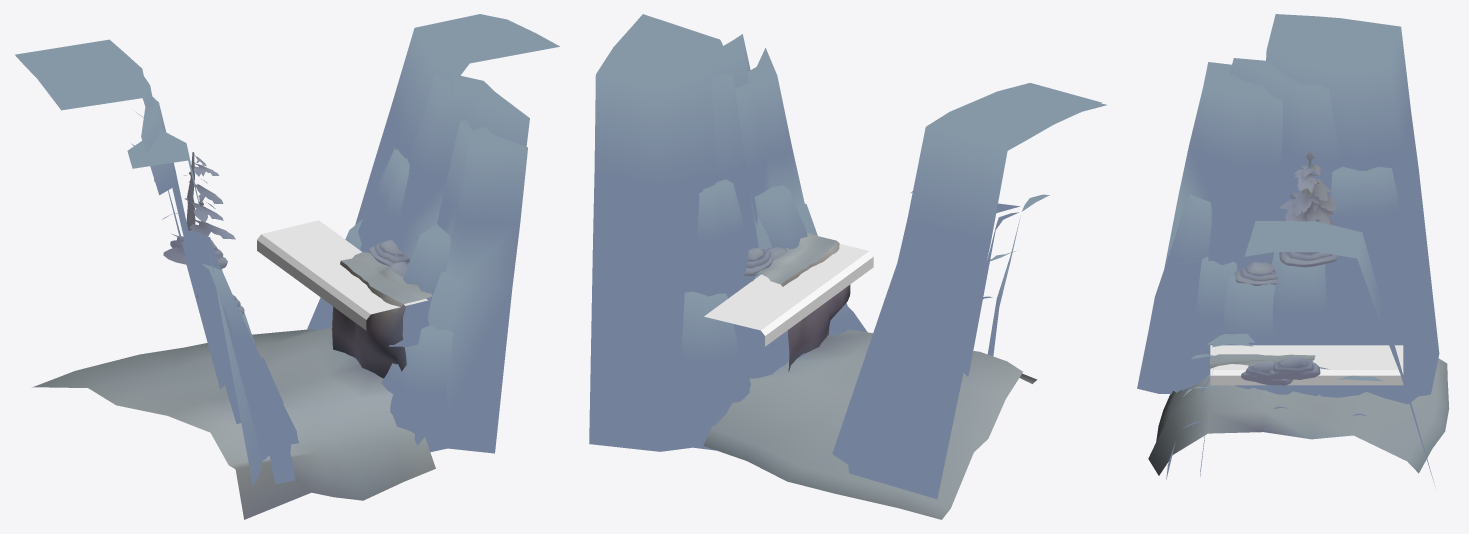
Rendered from Arctic_Narrows_Left_Transition_Post_A.glb.
3 views of the same model, side by side, from view 1: azimuth 30°, elevation 25°; view 2: azimuth 150°, elevation 25°; view 3: azimuth 270°, elevation 25° (orthographic). The views are drawn at different scales.
Visible parts, largest first — view 1: Arctic_Narrows_Left_Transition_Post_A, inv_fill; view 2: Arctic_Narrows_Left_Transition_Post_A, inv_fill; view 3: Arctic_Narrows_Left_Transition_Post_A, inv_fill.
Part boxes in pixels (<box>): Arctic_Narrows_Left_Transition_Post_A: <box>15,14,559,519</box>; inv_fill: <box>257,220,427,330</box>; Arctic_Narrows_Left_Transition_Post_A: <box>589,14,1106,519</box>; inv_fill: <box>704,244,873,346</box>; Arctic_Narrows_Left_Transition_Post_A: <box>1137,14,1449,486</box>; inv_fill: <box>1210,345,1403,385</box>.
Size of what is drawn, in the model's own units: 27.08 by 21.22 by 17.62.
